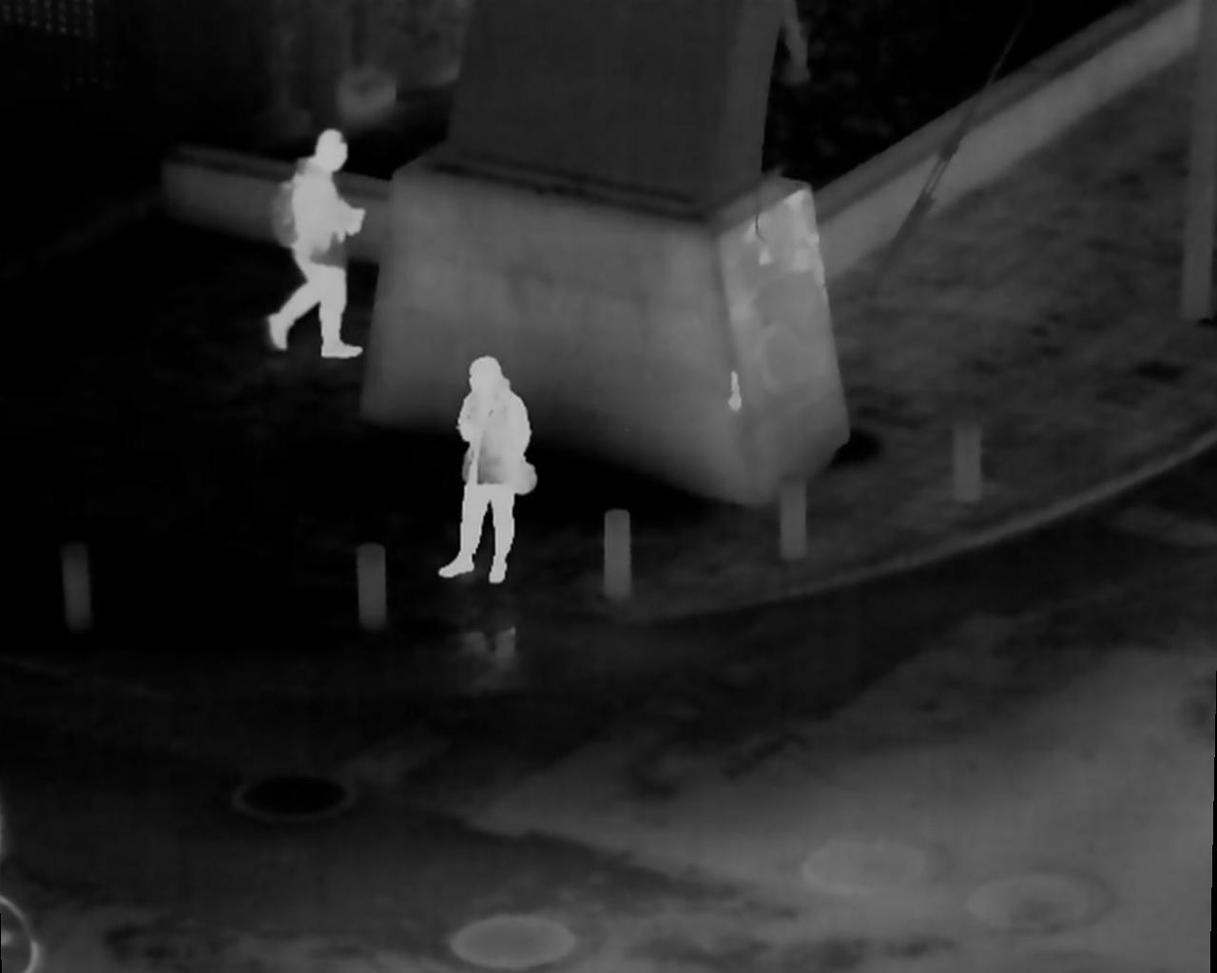person: (267, 119, 370, 364), (441, 352, 533, 583)
